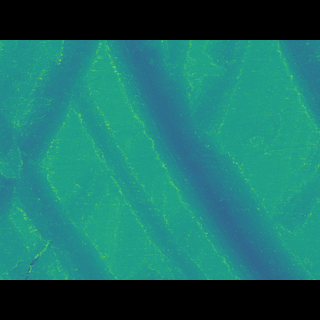Loch: (100, 69, 314, 250), (60, 100, 211, 250), (0, 69, 100, 205)
